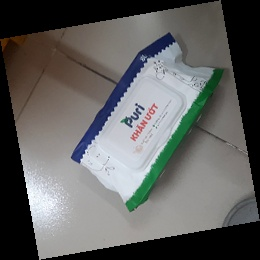Puri Trang: (71, 33, 224, 212)
